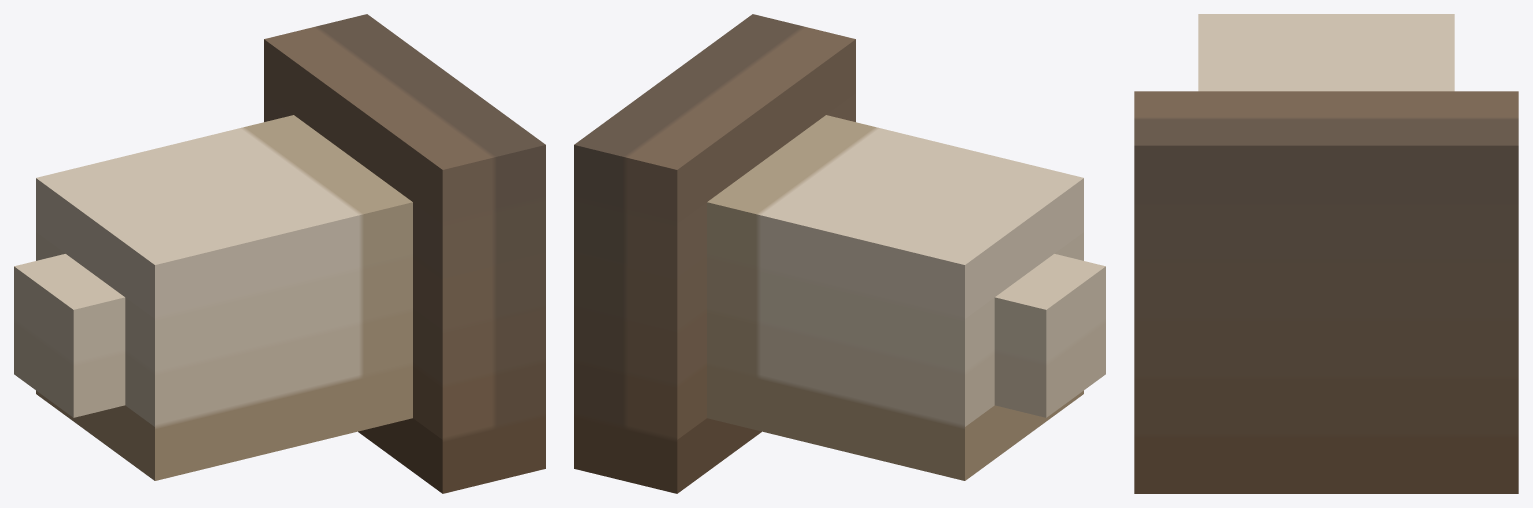
The model's file is Shoulder006.fbx.
3 views of the same model, side by side, from view 1: azimuth 30°, elevation 25°; view 2: azimuth 150°, elevation 25°; view 3: azimuth 270°, elevation 25° (orthographic). The views are drawn at different scales.
Parts seen in each view (by area): view 1: Shoulder006; view 2: Shoulder006; view 3: Shoulder006.
Boxes of the visible parts, x1,y1,x2,y2 form: Shoulder006: (14, 14, 545, 493); Shoulder006: (574, 14, 1105, 493); Shoulder006: (1134, 14, 1518, 493).
Bounding box in the file's own units: 8 × 6 × 6.
